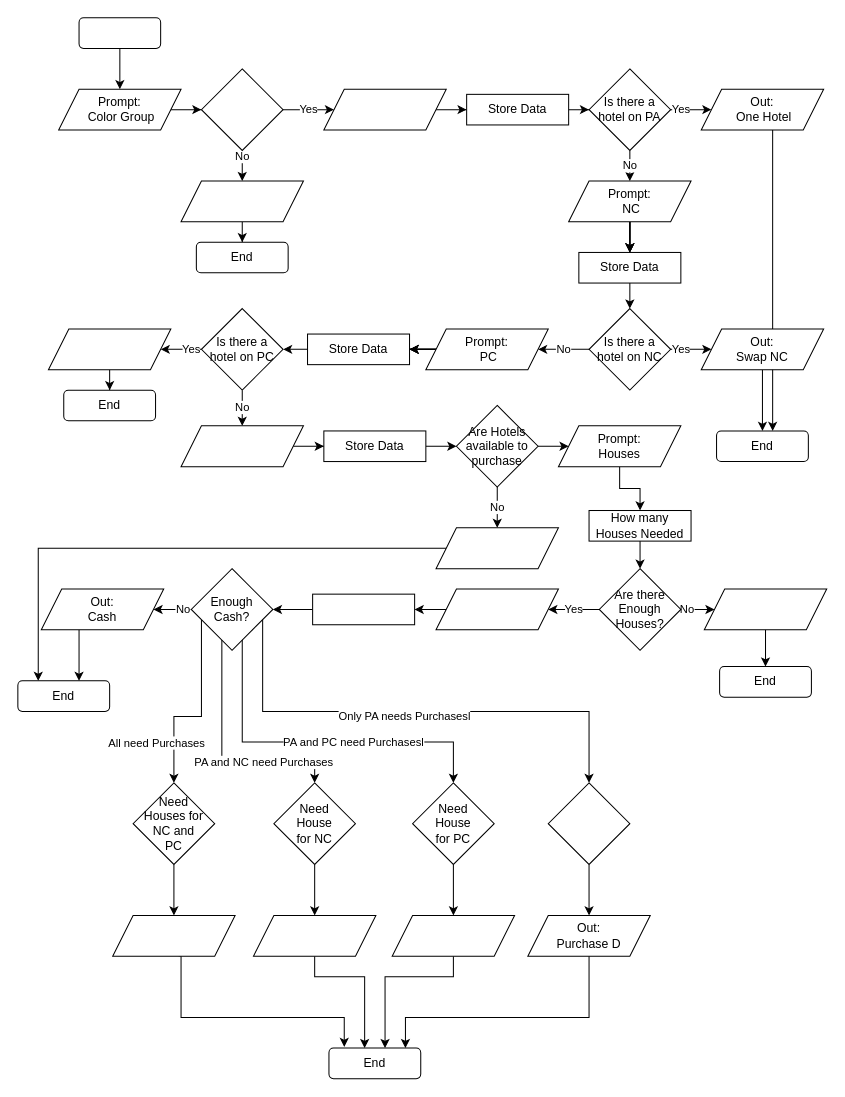
This 845x1097 diagram has some shape labels left out. The shapes that lost their labels are listed below. From the top down, each one's centre as x and y in pixels, then its label:
the point at 119,32: Start
the point at 241,109: Color group?
the point at 384,109: Prompt: PA
the point at 241,201: Out: No Properties
the point at 109,349: Out: Swap PC
the point at 241,446: Prompt: Hotels
the point at 496,548: Out: No Hotels
the point at 363,609: Store Data & Calculate Cost
the point at 496,609: Prompt: Cash
the point at 765,609: Out: No Houses
the point at 588,823: House/Hotel for PA
the point at 173,935: Out: Purchase A
the point at 314,935: Out: Purchase B
the point at 453,935: Out: Purchase C
